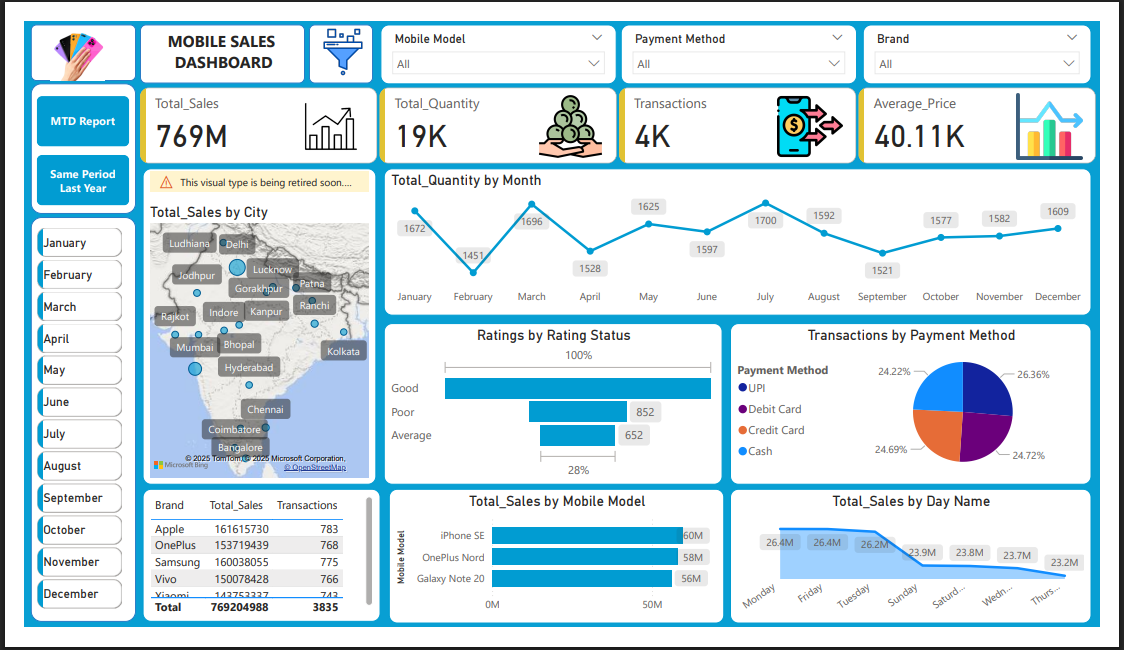

The page's visual inventory and layout, read from the dashboard file:
{"tool":"powerbi","page":{"name":"Dashboard","canvas":[1280,720],"ordinal":0},"visuals":[{"type":"shape","box":[7.5,3.8,125,67.5],"z":0},{"type":"image","box":[23.8,3.8,78.8,71.2],"z":1000},{"type":"shape","box":[7.5,73.8,125,155],"z":2000},{"type":"shape","box":[7.5,232.5,125,481.2],"z":3000},{"type":"advancedSlicerVisual","fields":{"Values":["Custom_Calendar.Date.Variation.Date Hierarchy.Month"]},"box":[11.2,241.2,110,472.5],"z":4000},{"type":"cardVisual","fields":{"Data":["Sales_Data.Total_Sales","Sales_Data.Total_Quantity","Sales_Data.Transactions","Sales_Data.Average_Price"]},"box":[132.5,73.8,1147.5,100],"z":5000},{"type":"slicer","fields":{"Values":["Sales_Data.Mobile Model"]},"box":[423.8,3.8,281.2,71.2],"z":6000},{"type":"slicer","fields":{"Values":["Sales_Data.Payment Method"]},"box":[710,3.8,281.2,71.2],"z":7000},{"type":"slicer","fields":{"Values":["Sales_Data.Brand"]},"box":[997.5,3.8,272.5,71.2],"z":8000},{"type":"shape","box":[338.8,3.8,76.2,70],"z":9000},{"type":"image","box":[337.5,3.8,81.2,66.2],"z":10000},{"type":"shape","box":[137.5,3.8,196.2,70],"z":12000},{"type":"textbox","box":[156.2,6.2,162.5,63.8],"z":13000},{"type":"map","fields":{"Category":["Sales_Data.City"],"Size":["Sales_Data.Total_Sales"]},"box":[141.2,175,277.5,376.2],"z":14000},{"type":"lineChart","fields":{"Y":["Sales_Data.Total_Quantity"],"Category":["Custom_Calendar.Date.Variation.Date Hierarchy.Month"]},"box":[427.5,175,842.5,175],"z":15000},{"type":"funnel","title":"Ratings by Rating Status","fields":{"Y":["CountNonNull(Sales_Data.Customer Ratings)"],"Category":["Sales_Data.Rating Status"]},"box":[427.5,358.8,403.8,192.5],"z":16000},{"type":"pieChart","fields":{"Y":["Sales_Data.Transactions"],"Category":["Sales_Data.Payment Method"]},"box":[840,358.8,430,192.5],"z":17000},{"type":"clusteredBarChart","fields":{"Y":["Sales_Data.Total_Sales"],"Category":["Sales_Data.Mobile Model"]},"box":[433.8,556.2,398.8,160],"z":18000},{"type":"areaChart","fields":{"Y":["Sales_Data.Total_Sales"],"Category":["Custom_Calendar.Day Name"]},"box":[840,556.2,430,160],"z":19000},{"type":"tableEx","fields":{"Values":["Sales_Data.Brand","Sales_Data.Total_Sales","Sales_Data.Transactions"]},"box":[141.2,556.2,282.5,157.5],"z":20000},{"type":"pageNavigator","box":[15,88.8,110,130],"z":21000}]}

Visuals, with their boxes in screenshot pixels (x1, y1, x2, y2), scaled from the page's 1280x720 canvas onto the 1124x650 screenshot:
shape: (7, 3, 116, 64)
image: (21, 3, 90, 68)
shape: (7, 67, 116, 207)
shape: (7, 210, 116, 644)
advancedSlicerVisual - Custom_Calendar.Date.Variation.Date Hierarchy.Month: (10, 218, 106, 644)
cardVisual - Sales_Data.Total_Sales x Sales_Data.Total_Quantity: (116, 67, 1123, 157)
slicer - Sales_Data.Mobile Model: (372, 3, 619, 68)
slicer - Sales_Data.Payment Method: (623, 3, 870, 68)
slicer - Sales_Data.Brand: (876, 3, 1115, 68)
shape: (298, 3, 364, 67)
image: (296, 3, 368, 63)
shape: (121, 3, 293, 67)
textbox: (137, 6, 280, 63)
map - Sales_Data.City x Sales_Data.Total_Sales: (124, 158, 368, 498)
lineChart - Sales_Data.Total_Quantity x Custom_Calendar.Date.Variation.Date Hierarchy.Month: (375, 158, 1115, 316)
"Ratings by Rating Status" funnel: (375, 324, 730, 498)
pieChart - Sales_Data.Transactions x Sales_Data.Payment Method: (738, 324, 1115, 498)
clusteredBarChart - Sales_Data.Total_Sales x Sales_Data.Mobile Model: (381, 502, 731, 647)
areaChart - Sales_Data.Total_Sales x Custom_Calendar.Day Name: (738, 502, 1115, 647)
tableEx - Sales_Data.Brand x Sales_Data.Total_Sales: (124, 502, 372, 644)
pageNavigator: (13, 80, 110, 198)
